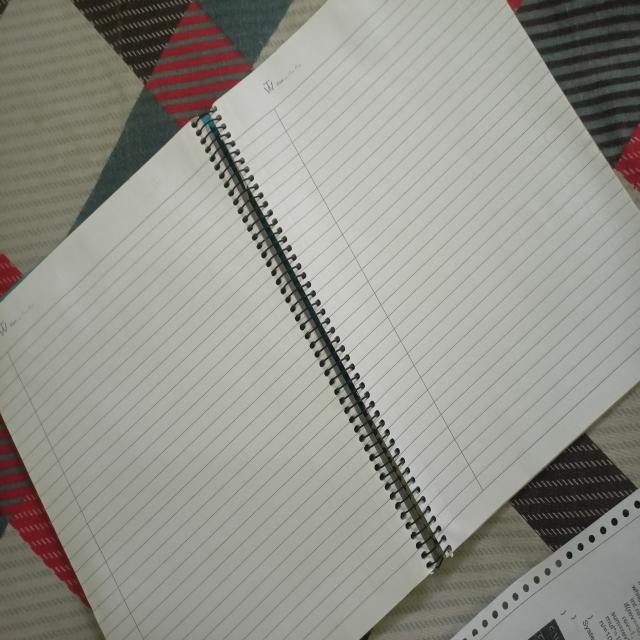notebook: (3, 8, 639, 640)
